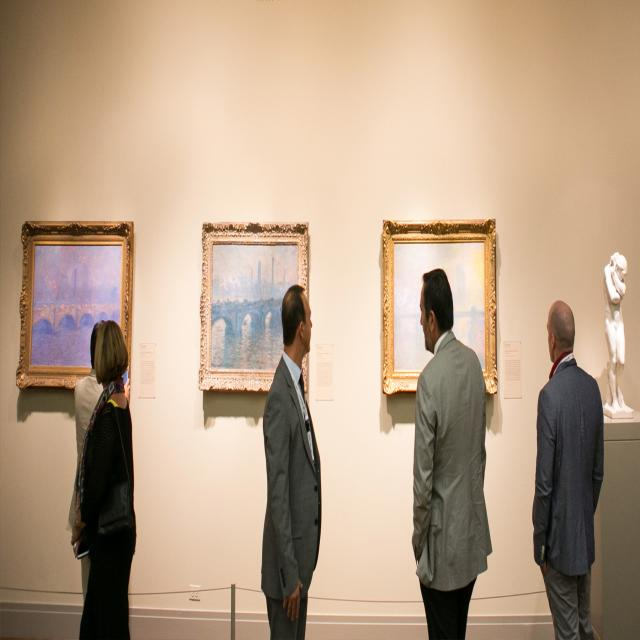Tablo: (391, 236, 488, 376), (28, 239, 124, 371), (207, 240, 299, 376)
